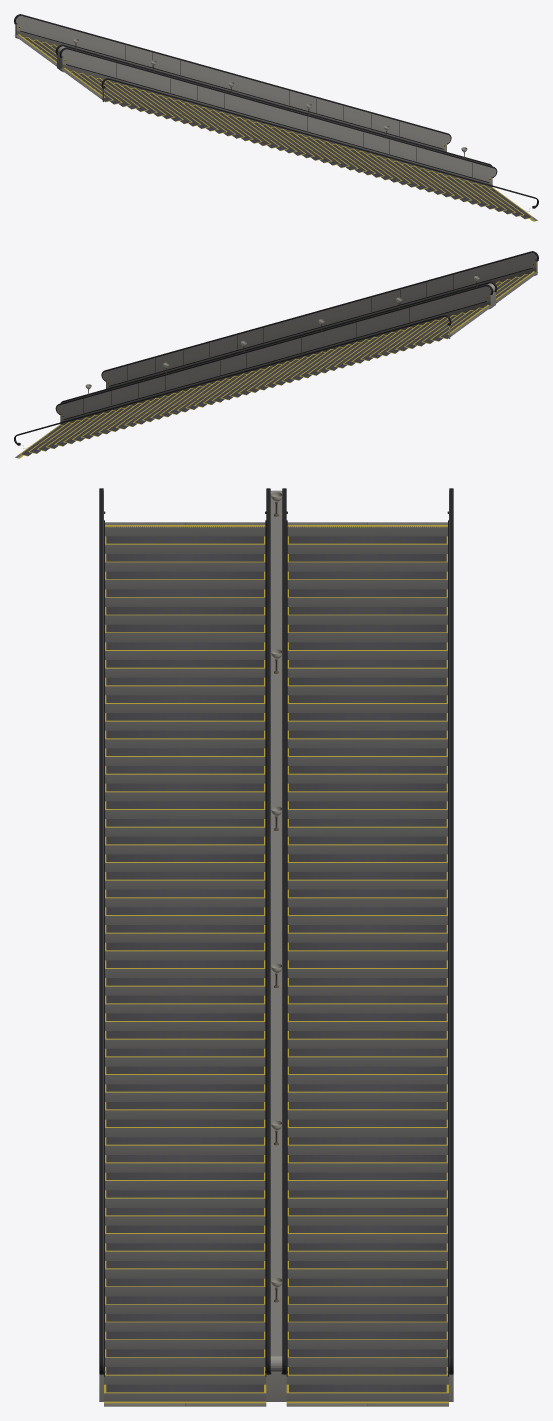
File: escalator_upper.glb
3 renders of one model, top to bottom at view 1: azimuth 30°, elevation 25°; view 2: azimuth 150°, elevation 25°; view 3: azimuth 270°, elevation 25°, orthographic. The views are drawn at different scales.
Parts seen in each view (by area): view 1: escalator_upper; view 2: escalator_upper; view 3: escalator_upper.
Part boxes in pixels (x1,y1,x2,y2): escalator_upper: [14, 14, 538, 221]; escalator_upper: [14, 251, 538, 458]; escalator_upper: [99, 488, 453, 1406].
Size of the model in its own units: 20.02 by 11 by 7.02.
